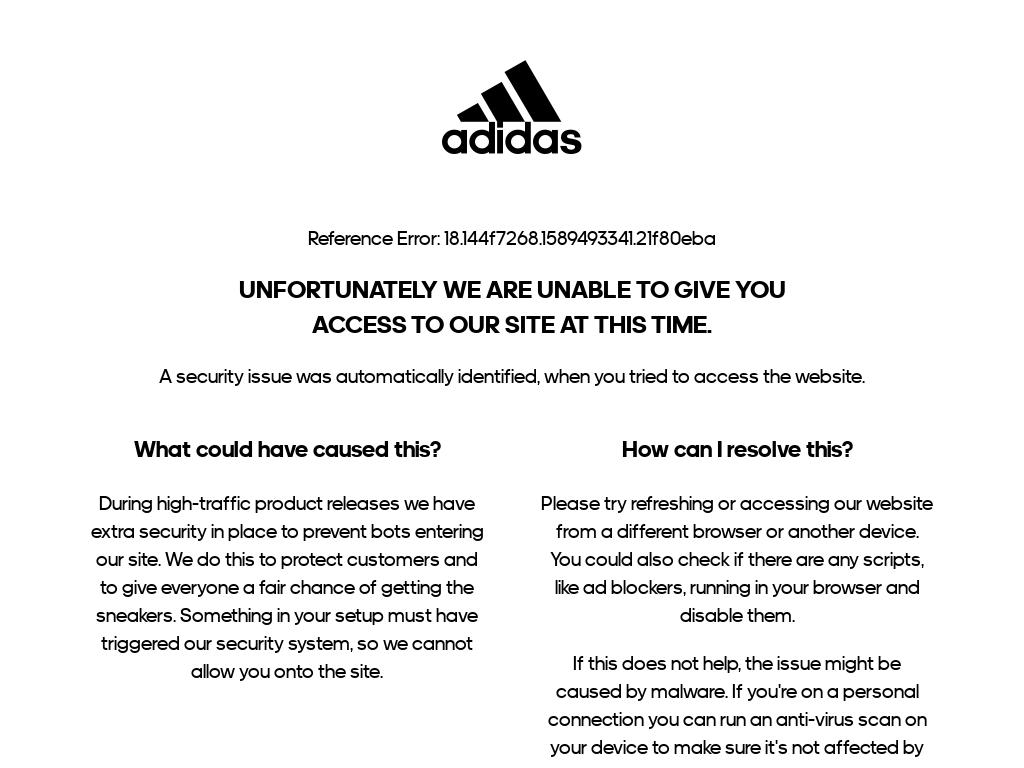heading: (207, 272, 817, 342), (89, 433, 485, 466), (539, 433, 935, 466)
text: (89, 488, 485, 685), (539, 488, 935, 629), (539, 648, 935, 768), (8, 8, 1016, 36), (8, 362, 1016, 390), (308, 226, 716, 250)
